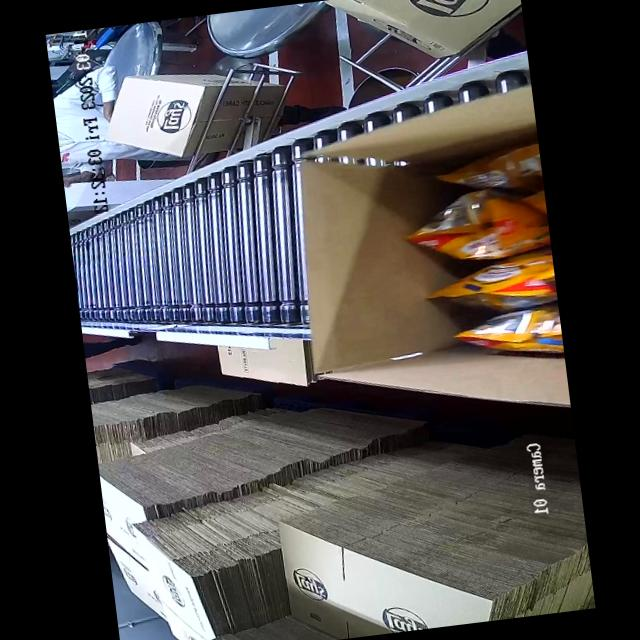cheese: (392, 142, 563, 366)
